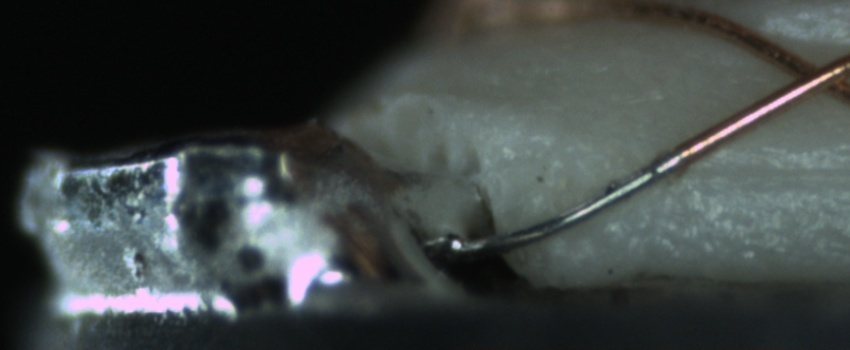CL: (769, 42, 849, 106)
DL: (683, 143, 849, 201)
TS: (442, 153, 683, 256)
